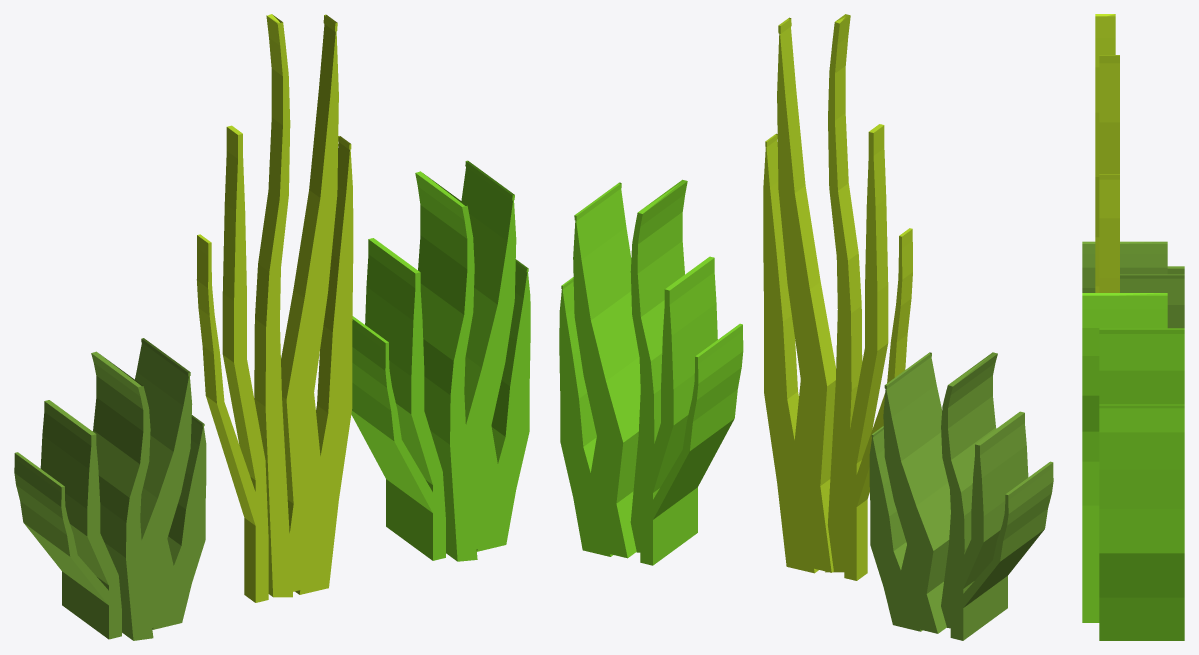
Rendered from algatex.fbx.
The picture shows the model from 3 angles, left to right: view 1: azimuth 30°, elevation 25°; view 2: azimuth 150°, elevation 25°; view 3: azimuth 270°, elevation 25°; orthographic projection. The views are drawn at different scales.
Visible parts, largest first — view 1: Plane.003, Plane.001, Plane.002; view 2: Plane.001, Plane.003, Plane.002; view 3: Plane.001, Plane.003, Plane.002.
Part boxes in pixels (x1,y1,x2,y2): Plane.003: (196, 14, 353, 602); Plane.001: (351, 160, 530, 561); Plane.002: (14, 338, 206, 640); Plane.001: (559, 179, 743, 565); Plane.003: (763, 14, 912, 580); Plane.002: (869, 352, 1053, 640); Plane.001: (1082, 293, 1184, 640); Plane.003: (1095, 14, 1119, 292); Plane.002: (1082, 241, 1184, 328).
Size of the model in its own units: 72.01 by 84.95 by 14.96.
